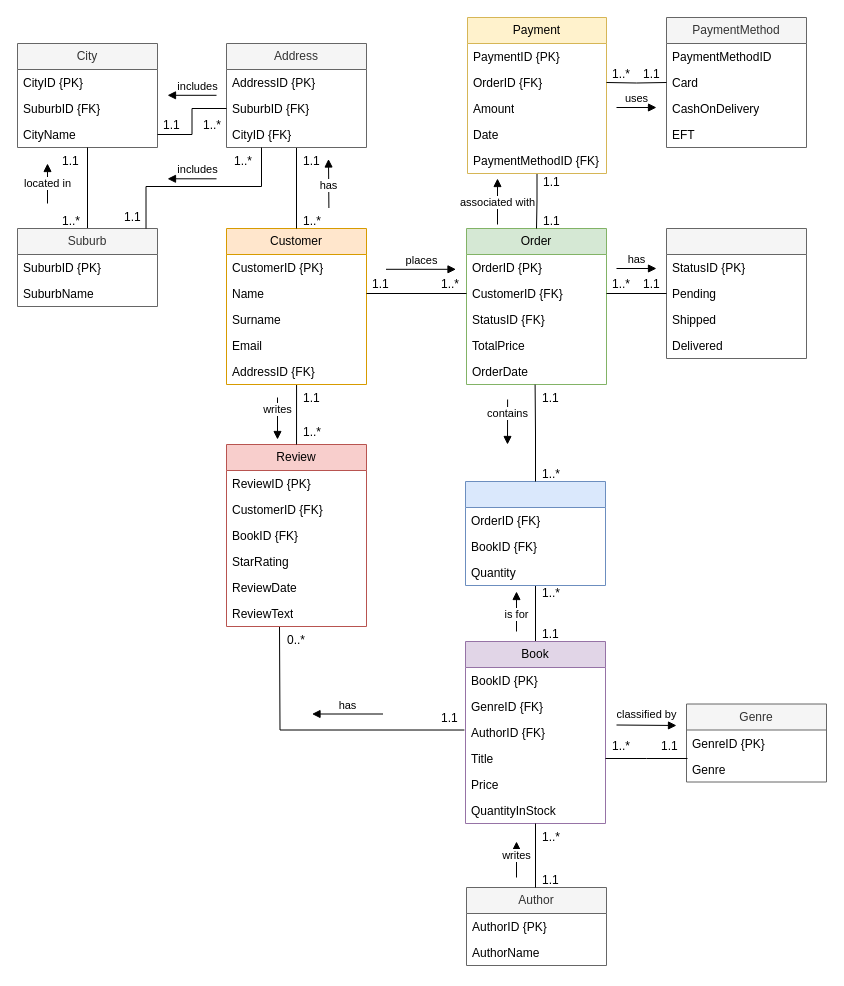
Some shapes in this 844 by 986 pixel diagram are drawn without their labels. Each missing label, with the box of its shape:
OrderDetails: (464, 480, 606, 586)
OrderStatus: (666, 228, 806, 358)
